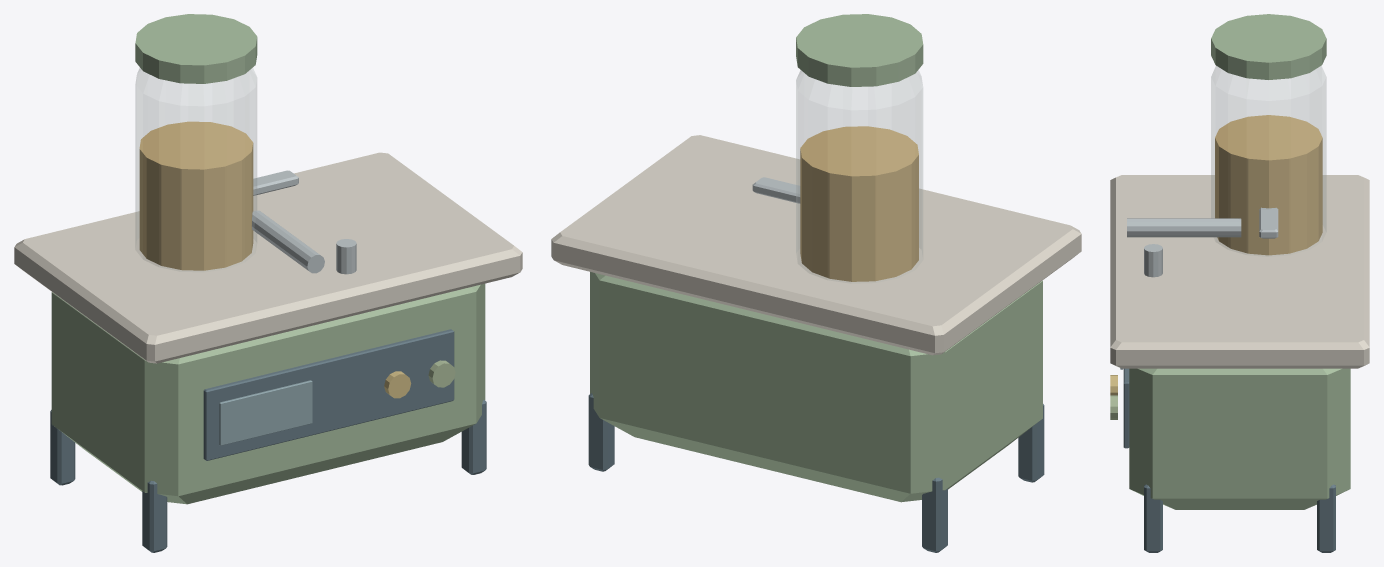
File: juice_press.glb
3 views of the same model, side by side, from view 1: azimuth 30°, elevation 25°; view 2: azimuth 150°, elevation 25°; view 3: azimuth 270°, elevation 25° (orthographic). The views are drawn at different scales.
Parts seen in each view (by area): view 1: juice_press, Spinner; view 2: juice_press, Spinner; view 3: juice_press, Spinner.
Boxes of the visible parts, x1=… form: juice_press: x1=14, y1=14, x2=522, y2=552; Spinner: x1=253, y1=170, x2=298, y2=195; juice_press: x1=551, y1=14, x2=1081, y2=552; Spinner: x1=752, y1=177, x2=800, y2=203; juice_press: x1=1110, y1=14, x2=1369, y2=552; Spinner: x1=1259, y1=207, x2=1278, y2=238.
Size of the model in its own units: 2.12 by 2.37 by 1.35.
